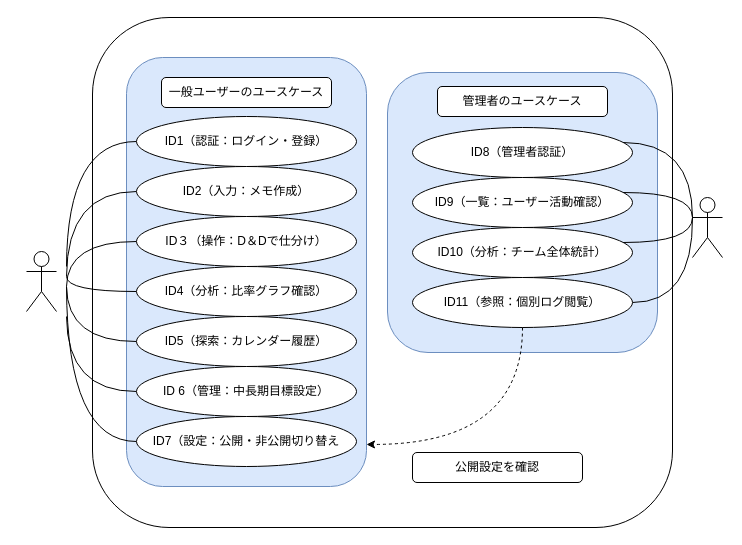
This 742x545 diagram has some shape labels left out. Here are the shapes that lost their labels. From the top down, the centre of each, then its label:
At point (707, 227): "管理者".
At point (41, 281): "ユーザー".
